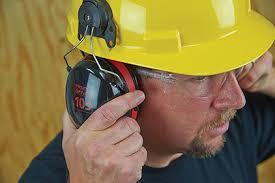Ear_protector: (55, 51, 143, 143)
Hard_hat: (60, 0, 275, 78)
Humans: (14, 55, 275, 183)
Visor: (150, 66, 267, 96)
